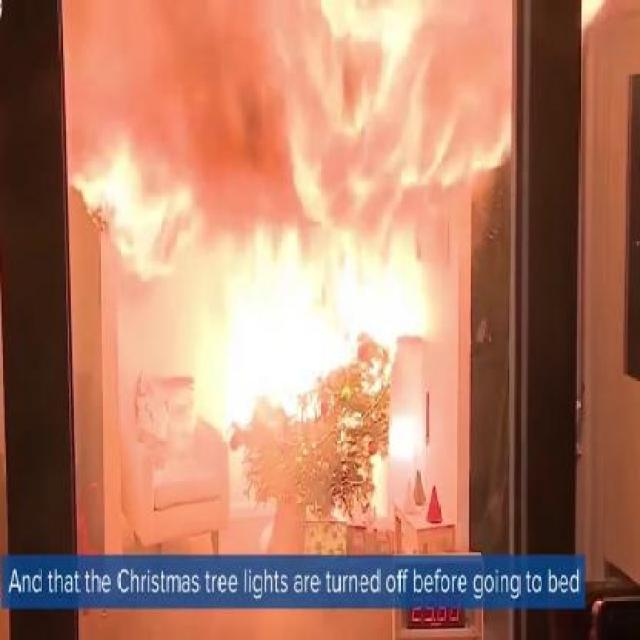fire: (233, 168, 418, 408)
